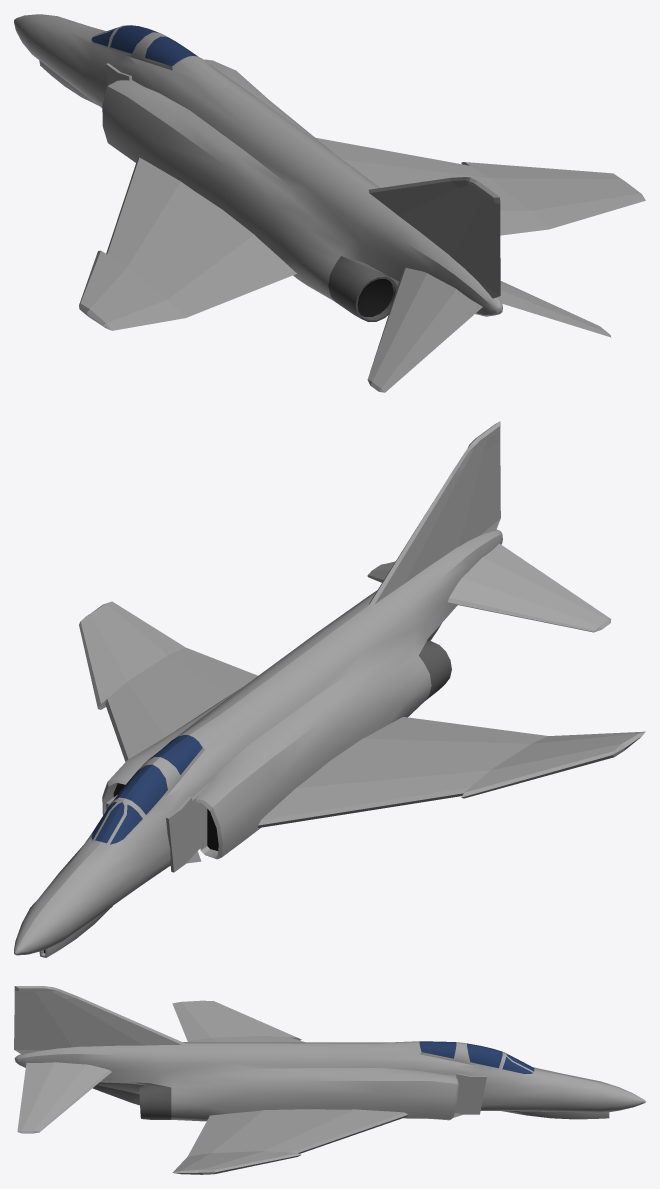
File: f4_phantom_II.glb
3 views of the same model, one above another, from view 1: azimuth 30°, elevation 25°; view 2: azimuth 150°, elevation 25°; view 3: azimuth 270°, elevation 25° (orthographic). The views are drawn at different scales.
Parts seen in each view (by area): view 1: f4_phantom_II.001; view 2: f4_phantom_II.001; view 3: f4_phantom_II.001.
Boxes of the visible parts, left/top/right/bottom form: f4_phantom_II.001: left=14, top=14, right=645, bottom=392; f4_phantom_II.001: left=14, top=421, right=645, bottom=957; f4_phantom_II.001: left=14, top=986, right=645, bottom=1174.
Bounding box in the file's own units: 0.6406 × 0.2304 × 1.
